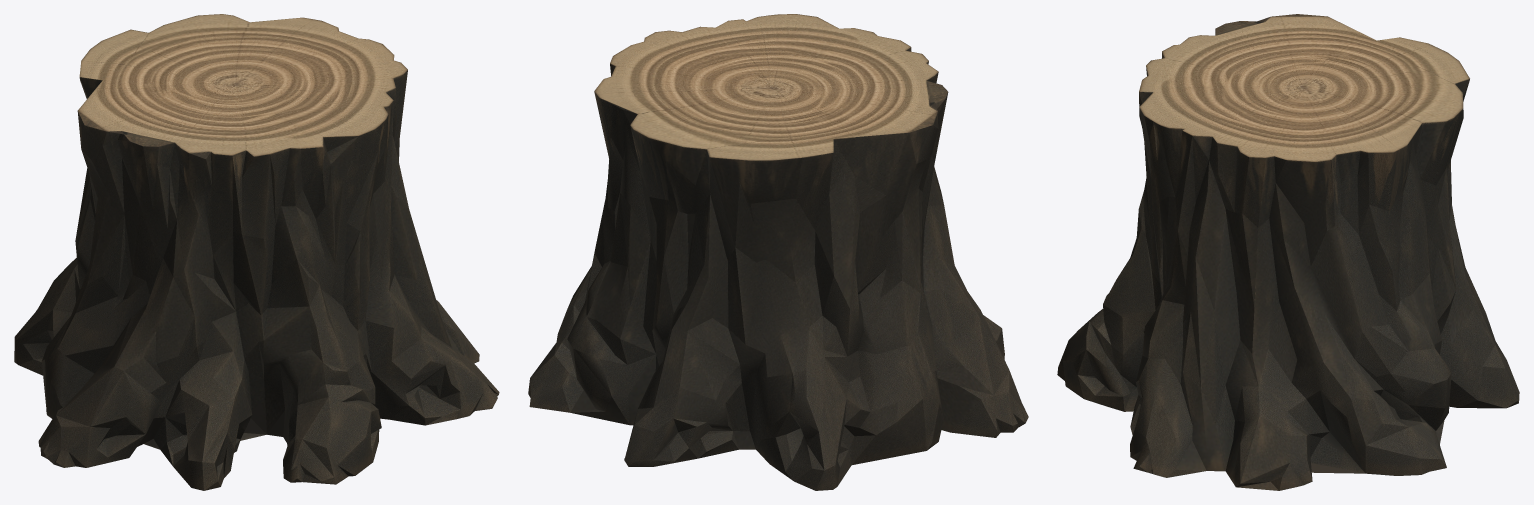
File: stump.glb
3 views of the same model, side by side, from view 1: azimuth 30°, elevation 25°; view 2: azimuth 150°, elevation 25°; view 3: azimuth 270°, elevation 25° (orthographic). The views are drawn at different scales.
Bounding box in the file's own units: 1.89 × 1.26 × 1.76.
1 material, 1 textured.
